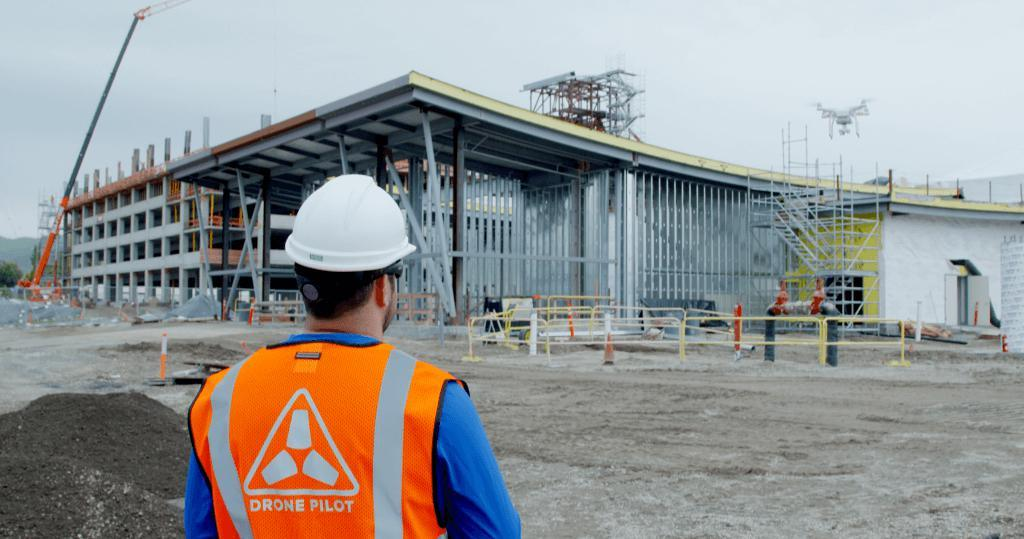drone: (810, 93, 874, 141)
